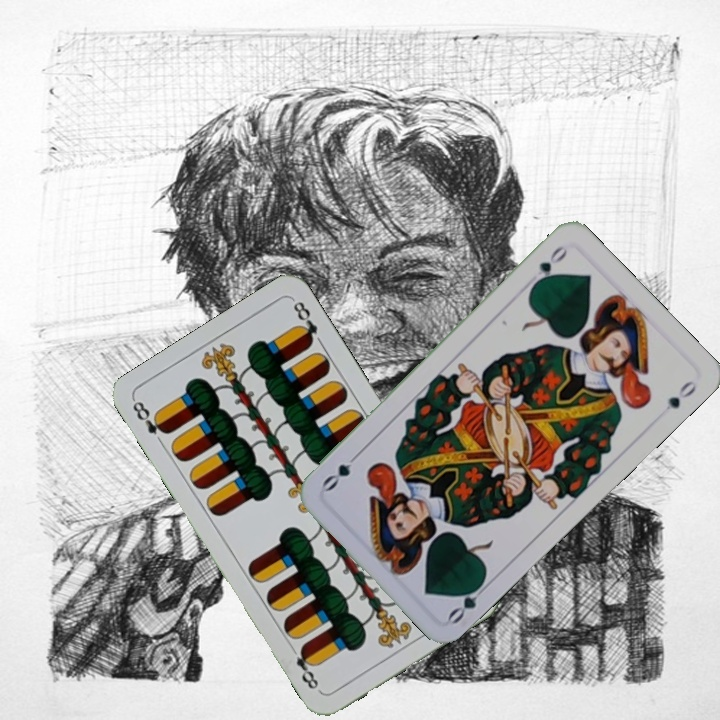E8: (128, 397, 172, 450)
GO: (444, 575, 493, 627), (527, 241, 571, 290)
